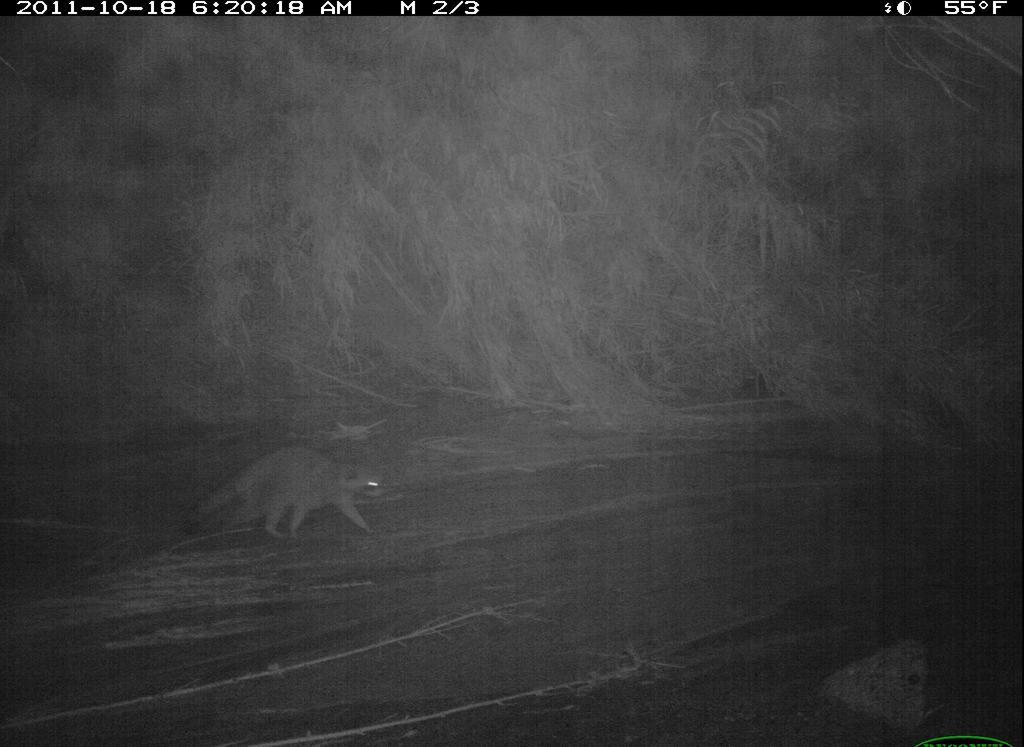raccoon: (182, 410, 393, 545)
